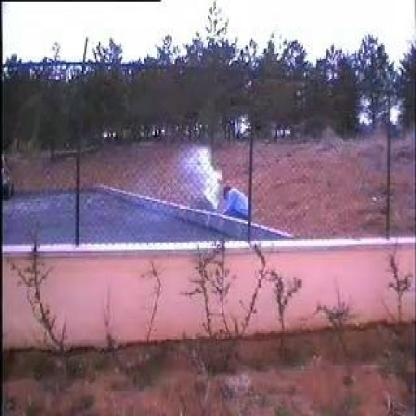-: (179, 141, 224, 207)
